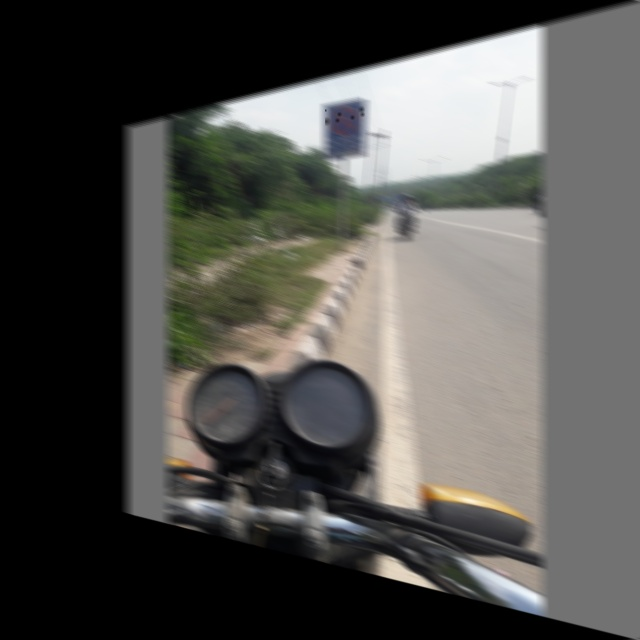No_Stopping_or_Standing: (325, 96, 366, 142)
